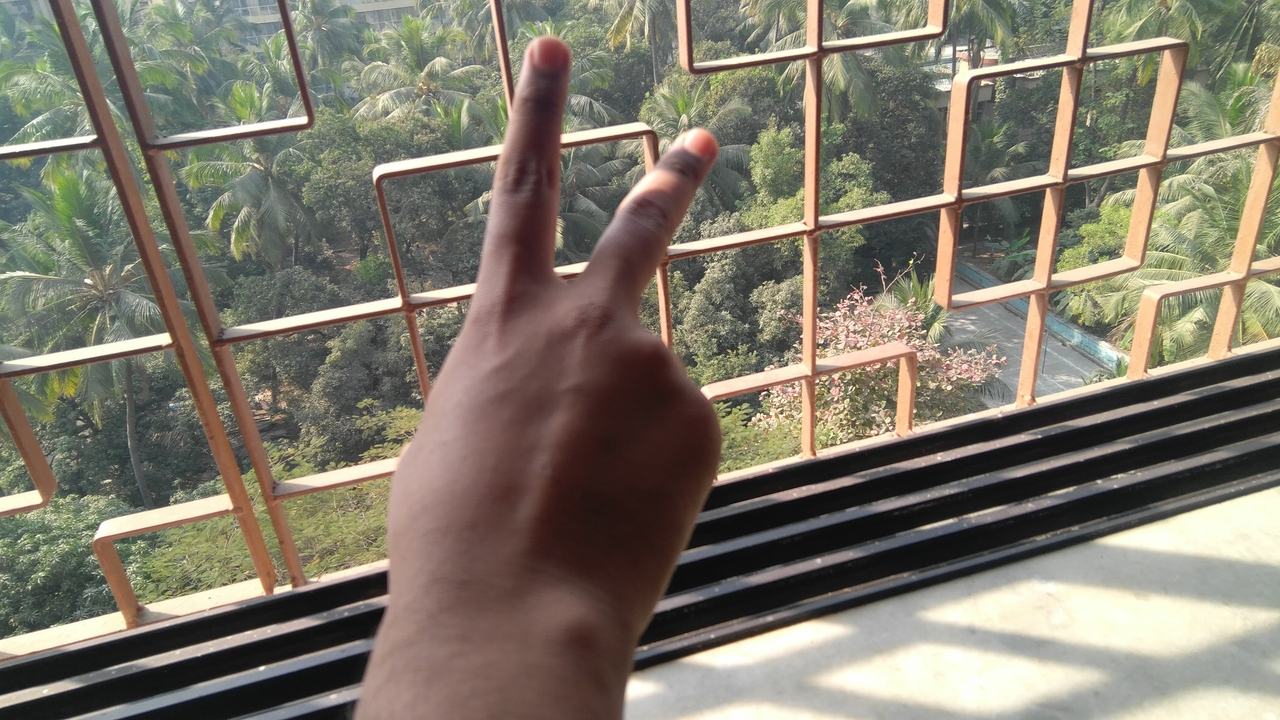fingertip: (664, 116, 722, 176), (516, 32, 572, 84)
